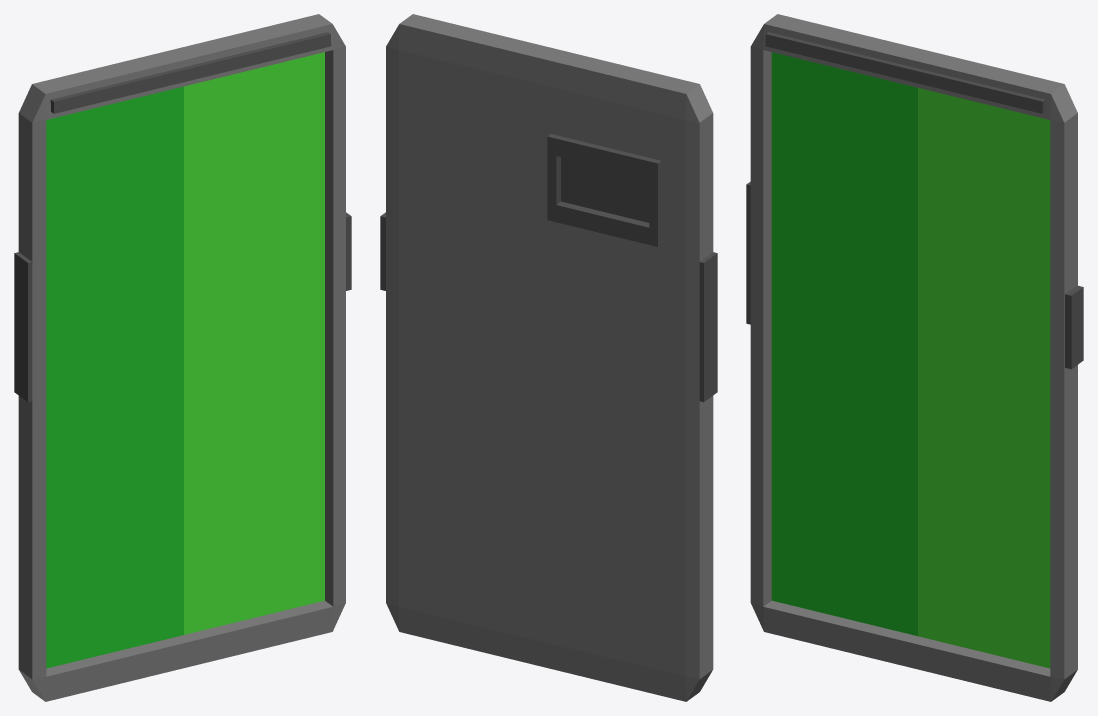
The model's file is phone.fbx.
3 renders of one model, left to right at view 1: azimuth 30°, elevation 25°; view 2: azimuth 150°, elevation 25°; view 3: azimuth 330°, elevation 25°, orthographic.
Visible parts, largest first — view 1: Cube; view 2: Cube; view 3: Cube.
Part boxes in pixels (x1=…): Cube: x1=14, y1=14, x2=351, y2=701; Cube: x1=380, y1=14, x2=717, y2=701; Cube: x1=746, y1=14, x2=1083, y2=701.
Bounding box in the file's own units: 299 × 536 × 34.11.
